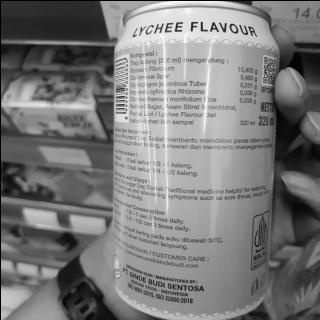alumunium_can: (100, 0, 280, 317)
